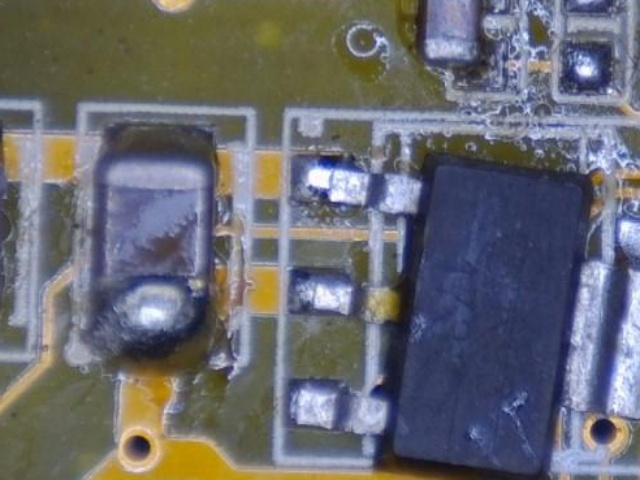pcb_defect: (286, 152, 640, 480)
